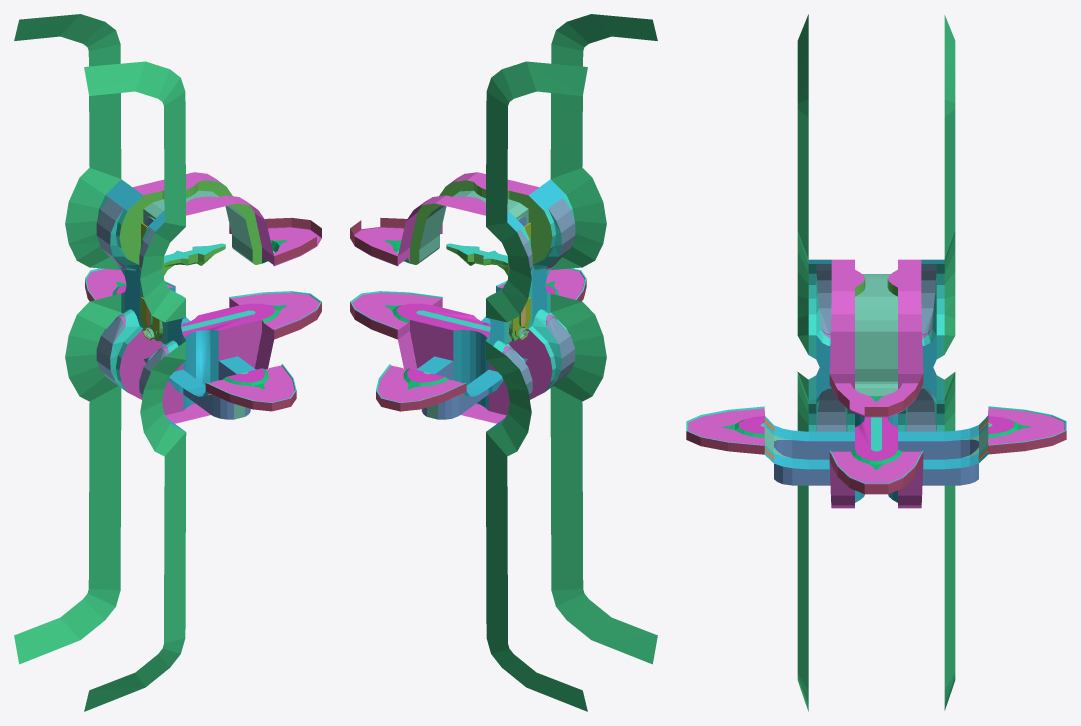
Rendered from high_5_collider.fbx.
3 renders of one model, left to right at view 1: azimuth 30°, elevation 25°; view 2: azimuth 150°, elevation 25°; view 3: azimuth 270°, elevation 25°, orthographic. The views are drawn at different scales.
Parts seen in each view (by area): view 1: level_collision; view 2: level_collision; view 3: level_collision.
Boxes of the visible parts, <box> form: level_collision: <box>14,14,321,711</box>; level_collision: <box>350,14,657,711</box>; level_collision: <box>686,14,1066,711</box>.
Size of the model in its own units: 595172 by 1385766 by 706016.
